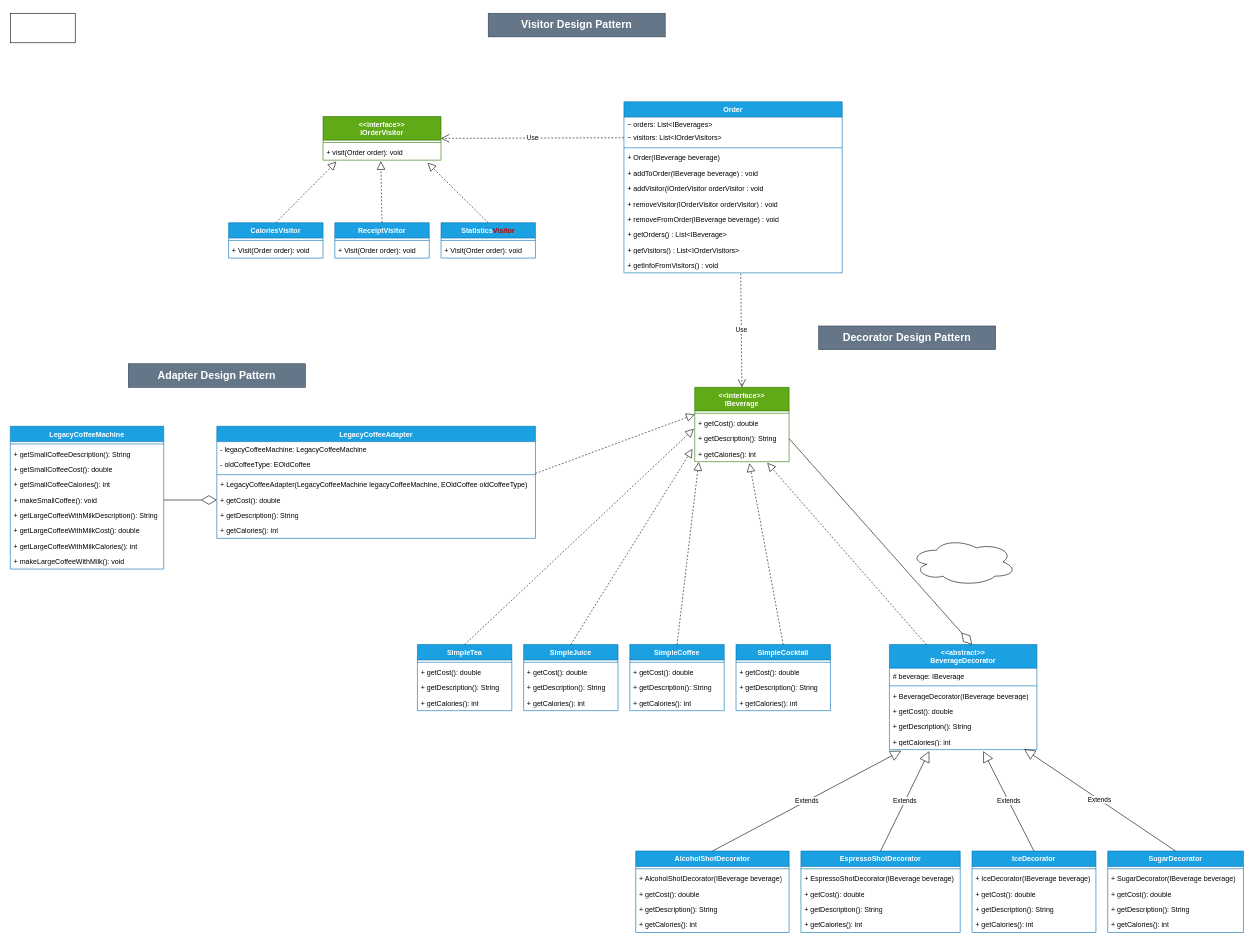
Some shapes in this 1254 by 945 pixel diagram are drawn without their labels. Each missing label, with the centre of its shape:
BeverageDecorator has a IBeverage (aggregation): the point at 962,562
Marcel Taveau Santiago Santos: the point at 42,28
